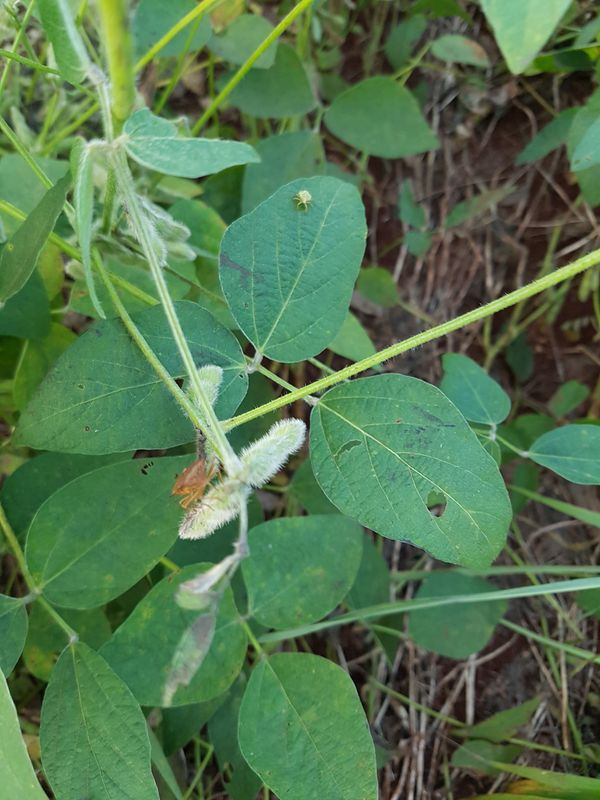Euschistus_heros_adulto: (160, 445, 236, 530)
Euschistus_heros_ninfa: (290, 183, 319, 216)
